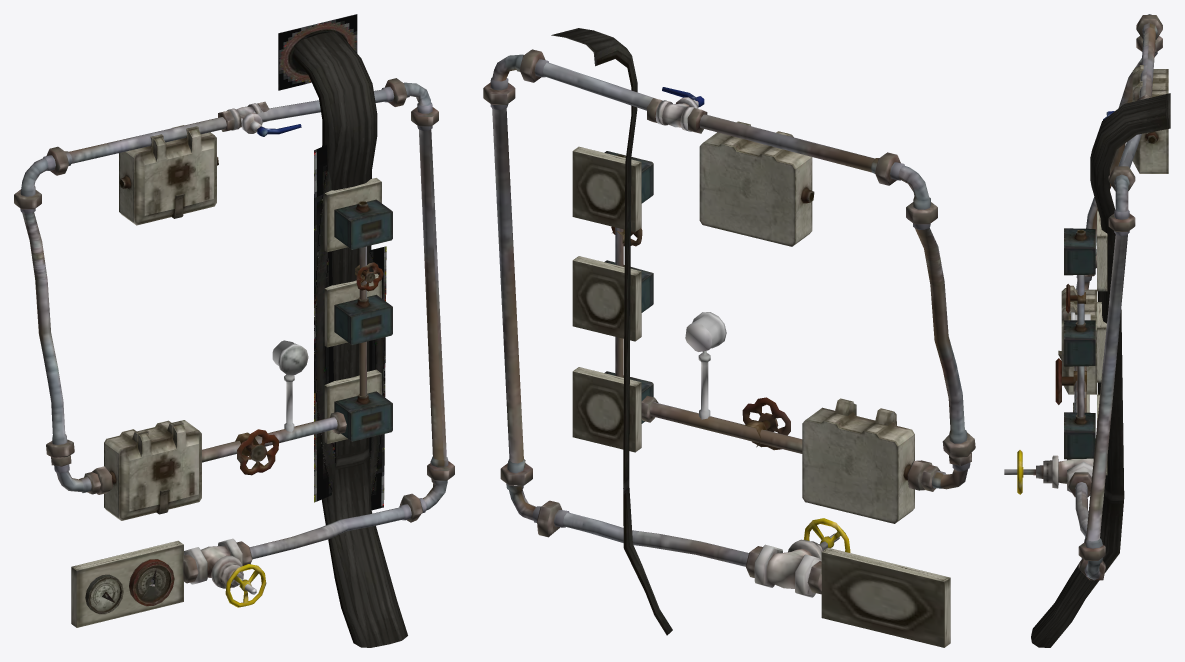
File: submarine_greeble_150x200_01_curved.glb
3 views of the same model, side by side, from view 1: azimuth 30°, elevation 25°; view 2: azimuth 150°, elevation 25°; view 3: azimuth 270°, elevation 25° (orthographic). The views are drawn at different scales.
Visible parts, largest first — view 1: submarine_greeble_150x200_01_curved_LOD0; view 2: submarine_greeble_150x200_01_curved_LOD0; view 3: submarine_greeble_150x200_01_curved_LOD0.
Boxes of the visible parts, left/top/right/bottom form: submarine_greeble_150x200_01_curved_LOD0: left=14, top=14, right=454, bottom=647; submarine_greeble_150x200_01_curved_LOD0: left=483, top=28, right=975, bottom=647; submarine_greeble_150x200_01_curved_LOD0: left=1004, top=14, right=1170, bottom=647.
Size of the model in its own units: 1.46 by 1.97 by 0.5449.
Materials: 2 (2 with a texture image).
